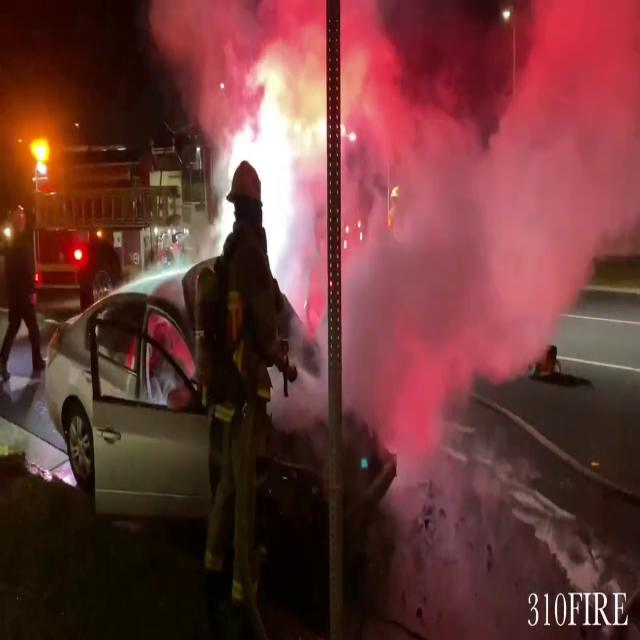Smoke: (341, 0, 640, 411)
